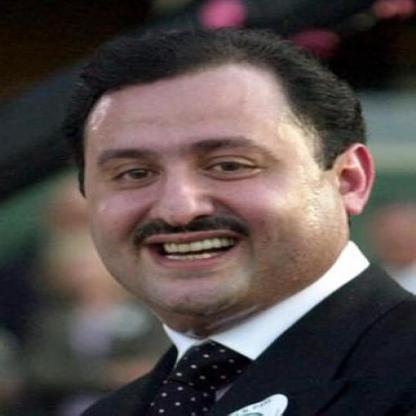face: (62, 41, 335, 317)
